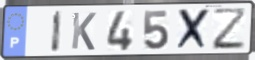4: (105, 9, 135, 52)
5: (142, 9, 171, 51)
I: (50, 10, 64, 55)
K: (70, 11, 98, 52)
X: (174, 7, 212, 52)
Z: (212, 6, 248, 52)
